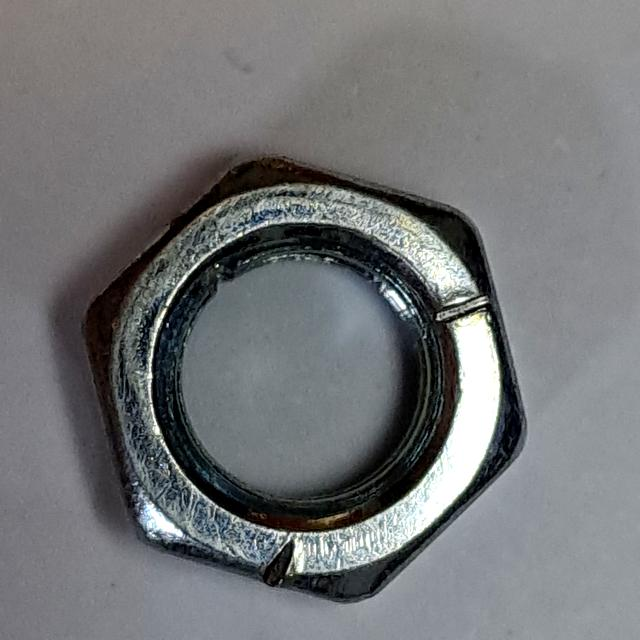Scratches: (68, 141, 541, 618)
